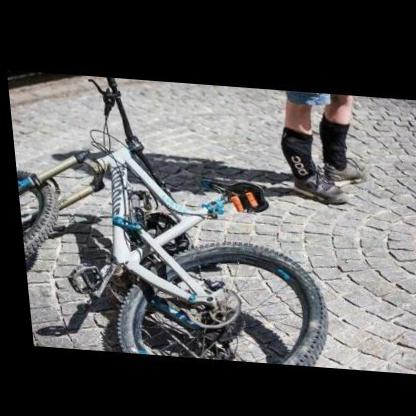Bicycle: (21, 80, 330, 356)
